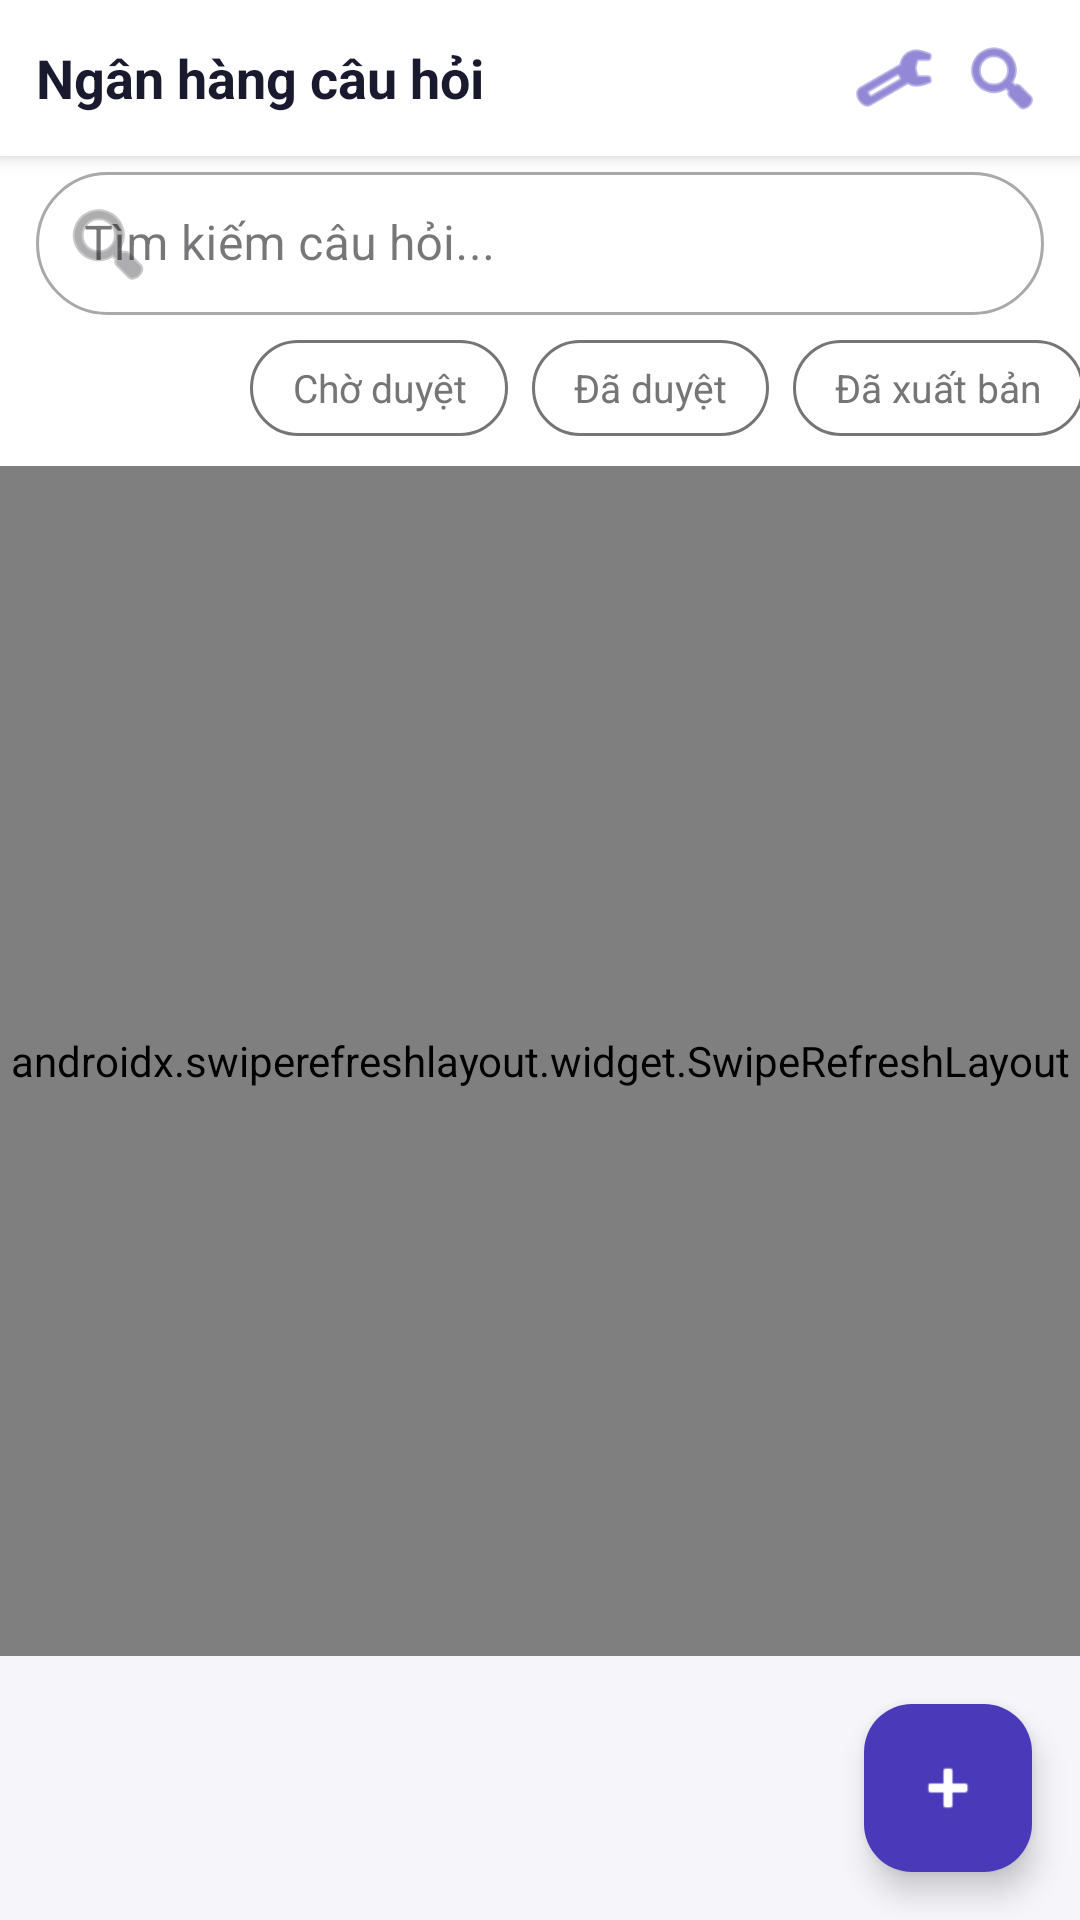

Screen size 1080px x 1920px. Icon name, then its center in pixels as (x,y):
preferences: (894,78)
search: (1002,78)
Thêm câu hỏi: (948,1788)
